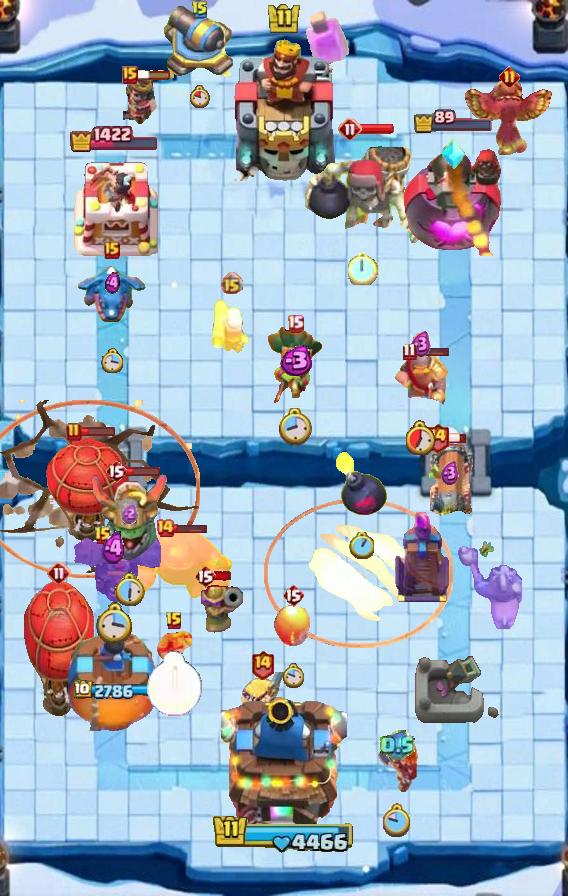archer-evolution: (67, 535, 161, 605)
arrows: (239, 672, 285, 721)
baby-dragon: (334, 449, 388, 517)
battle-healer: (427, 438, 473, 520)
bomb-tower: (201, 580, 243, 648)
bomber-evolution: (123, 76, 157, 126)
cannon-cart: (23, 580, 95, 720), (45, 436, 131, 544)
clock: (212, 813, 356, 855)
clone: (124, 528, 234, 602)
electro-giant: (302, 131, 424, 247)
electro-spirit: (276, 345, 314, 376), (380, 730, 415, 761), (101, 531, 127, 565), (411, 331, 431, 358), (441, 462, 459, 487), (121, 504, 138, 525), (105, 272, 119, 294)
elixir: (146, 651, 202, 717), (95, 601, 132, 642), (278, 409, 312, 448), (113, 573, 145, 607), (406, 420, 436, 455), (348, 251, 378, 285), (383, 803, 412, 837), (350, 532, 375, 560), (100, 348, 123, 373), (282, 663, 304, 689), (190, 84, 210, 108)
emote: (136, 69, 172, 81), (359, 123, 395, 135), (80, 427, 116, 438), (125, 467, 161, 478), (172, 523, 208, 534), (414, 346, 449, 357), (447, 432, 467, 444), (214, 570, 233, 582)
firecracker: (394, 349, 448, 405)
freeze: (458, 545, 522, 631)
goblin-barrel: (265, 324, 325, 404)
golden-knight: (461, 79, 557, 157)
graveyard: (77, 264, 147, 326)
guard: (0, 400, 200, 580)
hog: (273, 604, 313, 648)
hog-rider: (374, 742, 420, 796)
ice-spirit-evolution-symbol: (392, 512, 452, 604)
ice-wizard: (264, 499, 453, 649)
king-tower: (221, 690, 347, 826), (228, 35, 340, 181)
knight-evolution: (306, 10, 350, 67)
night-witch: (89, 472, 169, 562)
pad_2: (440, 138, 466, 170)
queen-tower: (68, 633, 160, 731), (70, 154, 158, 256)
royal-recruit: (164, 0, 236, 84)
selected: (68, 125, 159, 153), (414, 110, 495, 135), (73, 679, 154, 700)
text: (426, 422, 451, 453), (250, 648, 275, 679), (338, 117, 362, 141), (47, 561, 71, 585), (221, 272, 244, 295), (105, 459, 127, 483), (194, 564, 216, 588), (282, 583, 304, 607), (499, 65, 520, 86), (155, 518, 175, 538), (191, 0, 209, 20), (94, 526, 112, 546), (165, 611, 183, 631), (66, 422, 82, 442), (288, 315, 305, 333), (122, 66, 138, 84), (104, 241, 120, 259), (403, 343, 417, 361)
tombstone: (210, 297, 252, 355)
tower-bar: (404, 138, 505, 256)
zap: (156, 629, 192, 669)
